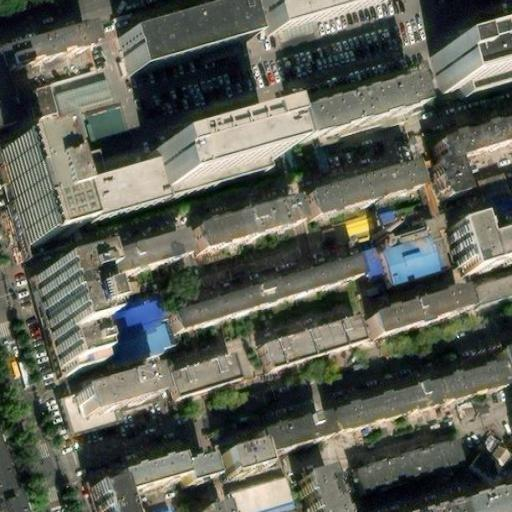building: (178, 254, 370, 324), (75, 154, 283, 217), (117, 9, 245, 79), (157, 117, 281, 186), (2, 137, 72, 248), (294, 89, 418, 151), (36, 270, 96, 374), (306, 167, 421, 220), (69, 237, 186, 289), (439, 120, 512, 199), (83, 299, 170, 364), (261, 313, 365, 366), (190, 206, 296, 258), (358, 439, 466, 488), (407, 363, 510, 413), (3, 15, 104, 65), (382, 216, 457, 283), (430, 33, 512, 93), (341, 188, 437, 237), (366, 288, 464, 335), (325, 390, 413, 435), (78, 378, 158, 423), (112, 468, 205, 505), (452, 220, 512, 273), (420, 478, 511, 512), (242, 407, 312, 447), (51, 68, 112, 112), (177, 353, 242, 391), (233, 475, 297, 512), (66, 399, 121, 437), (79, 100, 127, 141), (0, 436, 25, 512), (230, 446, 281, 482), (474, 171, 512, 212), (475, 437, 512, 478), (299, 477, 337, 512), (463, 72, 512, 98), (32, 82, 60, 118), (365, 250, 388, 291), (481, 274, 512, 304), (90, 490, 120, 512), (500, 346, 512, 381)
